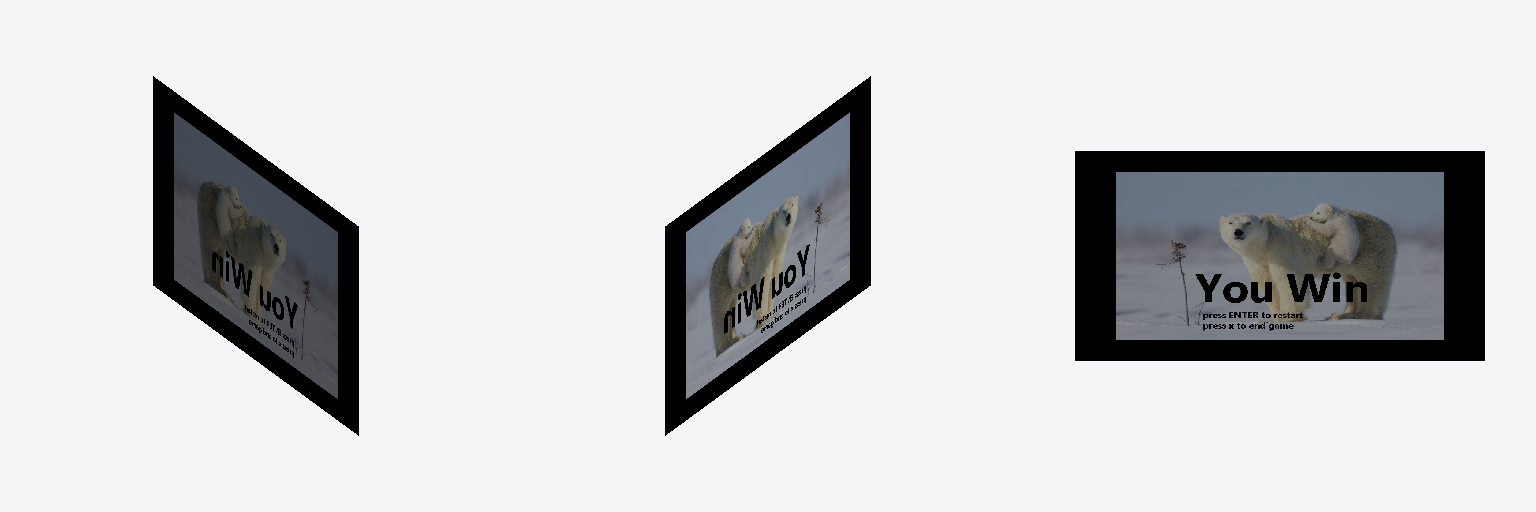
3 views of the same model, side by side, from view 1: azimuth 30°, elevation 25°; view 2: azimuth 150°, elevation 25°; view 3: azimuth 270°, elevation 25° (orthographic).
Visible parts, largest first — view 1: Plane; view 2: Plane; view 3: Plane.
Boxes of the visible parts, box(x1,y1,x2,y2) form: Plane: box(153, 76, 358, 435); Plane: box(665, 76, 870, 435); Plane: box(1075, 151, 1484, 360).
Bounding box in the file's own units: 0 × 1.44 × 2.56.
1 materials, 1 textured.